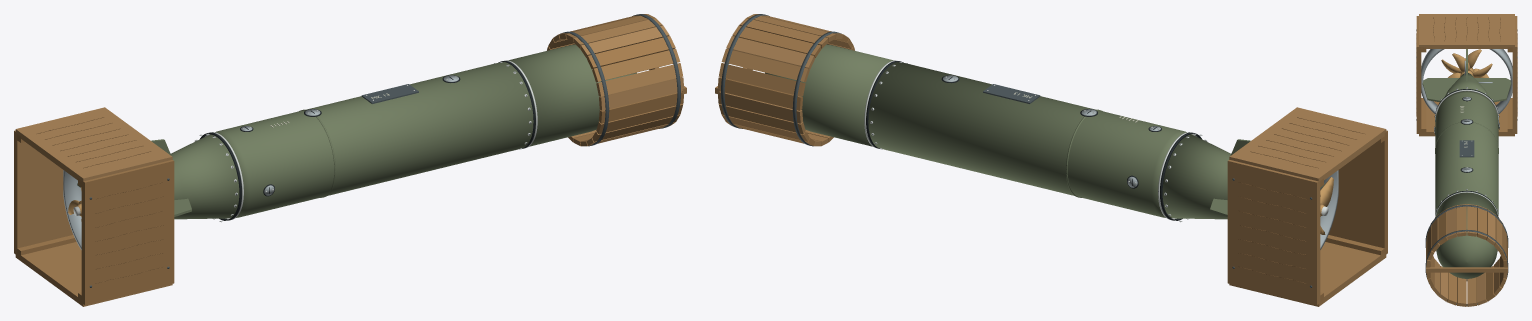
3 renders of one model, left to right at view 1: azimuth 30°, elevation 25°; view 2: azimuth 150°, elevation 25°; view 3: azimuth 270°, elevation 25°, orthographic. The views are drawn at different scales.
Parts seen in each view (by area): view 1: Body_Sections.012_Torpedo_Deep_Olive.002, Launch_Kit.003_Torpedo_Plywood_0.002, Launch_Kit.003_Torpedo_Plywood_3.002, Launch_Kit.003_Torpedo_Plywood_2.002, Launch_Kit.003_Torpedo_Plywood_1.002, Launch_Kit.003_Torpedo_Blackened_Steel.002, Launch_Kit.003_Torpedo_Plywood_Fibres, Flush_Surface_Details.012_Torpedo_Recessed_Joints.002, Tail_Assembly.012_Torpedo_Satin_Steel.002, Flush_Surface_Details.012_Torpedo_Machined_Edges.002, Flush_Surface_Details.012_Torpedo_Blackened_Steel.002; view 2: Body_Sections.012_Torpedo_Deep_Olive.002, Launch_Kit.003_Torpedo_Plywood_2.002, Launch_Kit.003_Torpedo_Plywood_3.002, Launch_Kit.003_Torpedo_Plywood_0.002, Launch_Kit.003_Torpedo_Plywood_1.002, Launch_Kit.003_Torpedo_Blackened_Steel.002, Launch_Kit.003_Torpedo_Plywood_Fibres, Flush_Surface_Details.012_Torpedo_Recessed_Joints.002, Flush_Surface_Details.012_Torpedo_Machined_Edges.002, Tail_Assembly.012_Torpedo_Satin_Steel.002, Flush_Surface_Details.012_Torpedo_Blackened_Steel.002; view 3: Body_Sections.012_Torpedo_Deep_Olive.002, Launch_Kit.003_Torpedo_Plywood_3.002, Launch_Kit.003_Torpedo_Plywood_2.002, Launch_Kit.003_Torpedo_Plywood_0.002, Launch_Kit.003_Torpedo_Plywood_1.002, Tail_Assembly.012_Torpedo_Deep_Olive.002, Tail_Assembly.012_Torpedo_Satin_Steel.002, Launch_Kit.003_Torpedo_Blackened_Steel.002, Propeller_A.012_Torpedo_Propeller_Bronze.002, Flush_Surface_Details.012_Torpedo_Machined_Edges.002, Flush_Surface_Details.012_Torpedo_Recessed_Joints.002, Propeller_B.012_Torpedo_Propeller_Bronze.002 (+4 smaller).
Boxes of the visible parts, left/top/right/bottom form: Body_Sections.012_Torpedo_Deep_Olive.002: left=171, top=44, right=636, bottom=219; Launch_Kit.003_Torpedo_Plywood_0.002: left=17, top=14, right=683, bottom=304; Launch_Kit.003_Torpedo_Plywood_3.002: left=15, top=25, right=683, bottom=181; Launch_Kit.003_Torpedo_Plywood_2.002: left=14, top=18, right=686, bottom=255; Launch_Kit.003_Torpedo_Plywood_1.002: left=15, top=14, right=683, bottom=306; Launch_Kit.003_Torpedo_Blackened_Steel.002: left=89, top=14, right=680, bottom=287; Launch_Kit.003_Torpedo_Plywood_Fibres: left=37, top=117, right=163, bottom=283; Flush_Surface_Details.012_Torpedo_Recessed_Joints.002: left=200, top=61, right=535, bottom=220; Tail_Assembly.012_Torpedo_Satin_Steel.002: left=63, top=170, right=81, bottom=249; Flush_Surface_Details.012_Torpedo_Machined_Edges.002: left=194, top=60, right=537, bottom=221; Flush_Surface_Details.012_Torpedo_Blackened_Steel.002: left=361, top=84, right=418, bottom=103; Body_Sections.012_Torpedo_Deep_Olive.002: left=765, top=44, right=1230, bottom=219; Launch_Kit.003_Torpedo_Plywood_2.002: left=715, top=14, right=1320, bottom=304; Launch_Kit.003_Torpedo_Plywood_3.002: left=718, top=14, right=1386, bottom=181; Launch_Kit.003_Torpedo_Plywood_0.002: left=718, top=25, right=1387, bottom=301; Launch_Kit.003_Torpedo_Plywood_1.002: left=718, top=18, right=1386, bottom=306; Launch_Kit.003_Torpedo_Blackened_Steel.002: left=721, top=14, right=1312, bottom=287; Launch_Kit.003_Torpedo_Plywood_Fibres: left=1238, top=117, right=1364, bottom=283; Flush_Surface_Details.012_Torpedo_Recessed_Joints.002: left=866, top=61, right=1201, bottom=220; Flush_Surface_Details.012_Torpedo_Machined_Edges.002: left=864, top=60, right=1207, bottom=221; Tail_Assembly.012_Torpedo_Satin_Steel.002: left=1320, top=170, right=1338, bottom=249; Flush_Surface_Details.012_Torpedo_Blackened_Steel.002: left=983, top=84, right=1040, bottom=103; Body_Sections.012_Torpedo_Deep_Olive.002: left=1435, top=73, right=1498, bottom=278; Launch_Kit.003_Torpedo_Plywood_3.002: left=1419, top=14, right=1514, bottom=305; Launch_Kit.003_Torpedo_Plywood_2.002: left=1426, top=16, right=1517, bottom=306; Launch_Kit.003_Torpedo_Plywood_0.002: left=1416, top=16, right=1512, bottom=305; Launch_Kit.003_Torpedo_Plywood_1.002: left=1419, top=101, right=1514, bottom=306; Tail_Assembly.012_Torpedo_Deep_Olive.002: left=1422, top=49, right=1511, bottom=102; Tail_Assembly.012_Torpedo_Satin_Steel.002: left=1421, top=49, right=1512, bottom=113; Launch_Kit.003_Torpedo_Blackened_Steel.002: left=1416, top=29, right=1517, bottom=305; Propeller_A.012_Torpedo_Propeller_Bronze.002: left=1448, top=53, right=1492, bottom=77; Flush_Surface_Details.012_Torpedo_Machined_Edges.002: left=1434, top=87, right=1499, bottom=217; Flush_Surface_Details.012_Torpedo_Recessed_Joints.002: left=1434, top=87, right=1499, bottom=218; Propeller_B.012_Torpedo_Propeller_Bronze.002: left=1441, top=49, right=1488, bottom=77.
Size of the model in its own units: 2.59 by 0.5255 by 0.5266.
